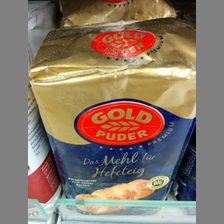flour: (30, 22, 197, 213)
